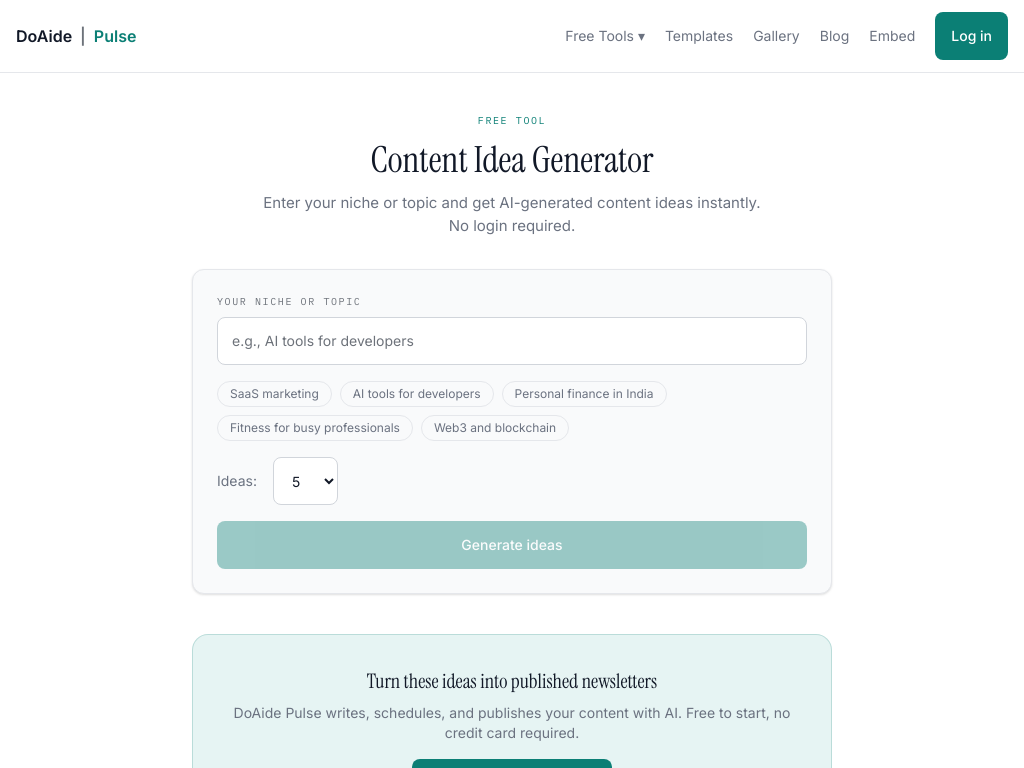
Test: ContentIdeaGenerator › shows error on API failure
In the field labelled "Your niche or topic": [512, 341] box [217,317,807,365], type "cooking"
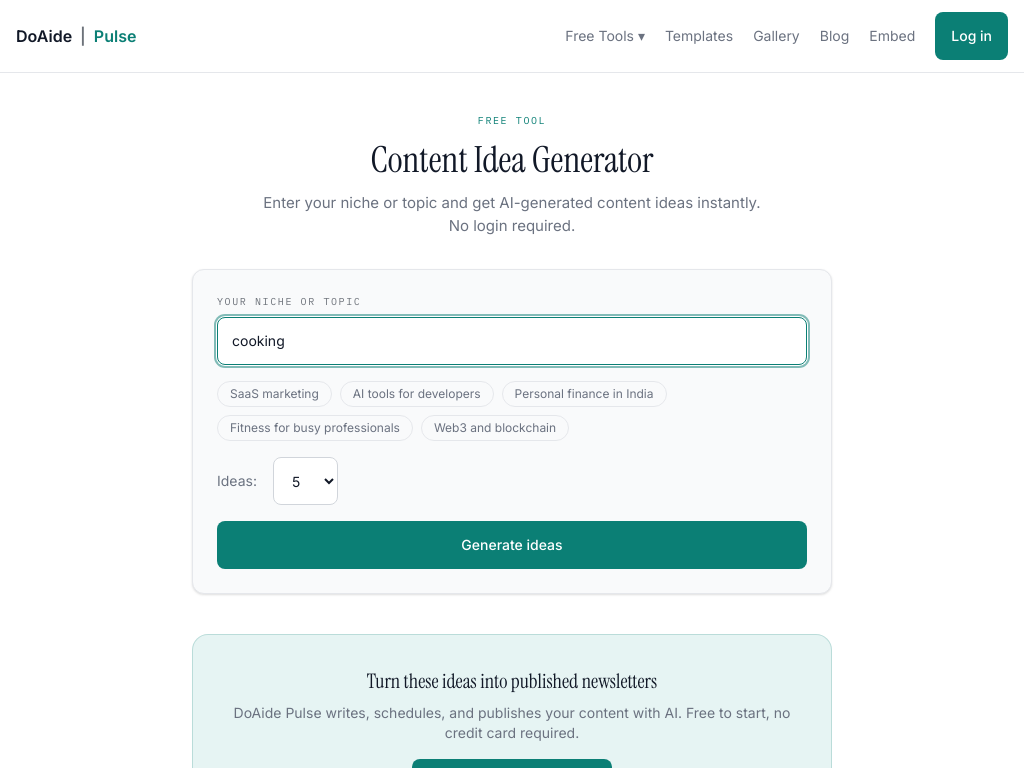
Click the button "Generate ideas": [512, 545] box [217,521,807,569]
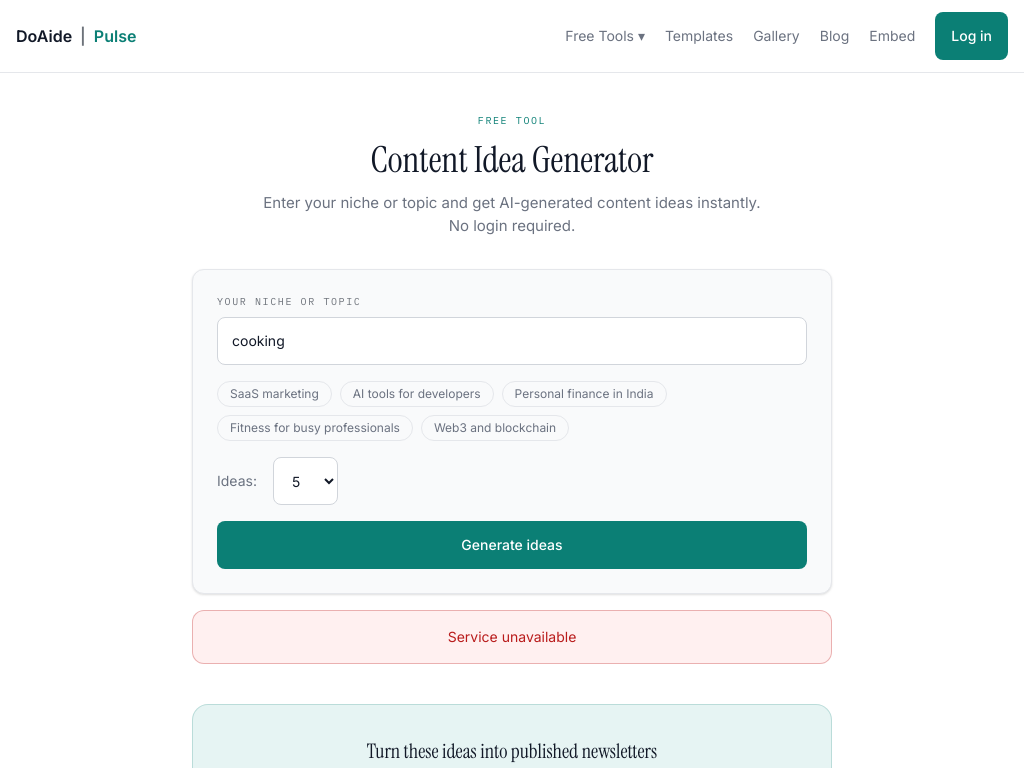
Result: the text "Service unavailable" is shown at [192,610,832,664]
